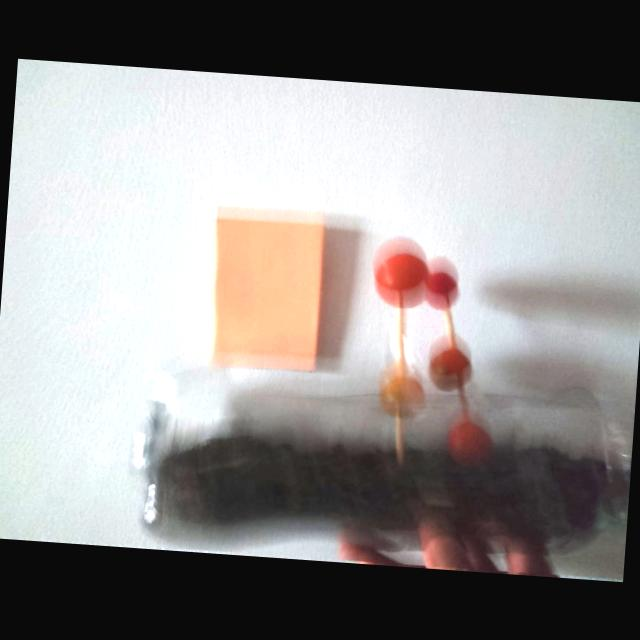card: (212, 207, 324, 368)
fruit_maturation: (380, 375, 423, 417)
fully_grown: (374, 237, 457, 308)
